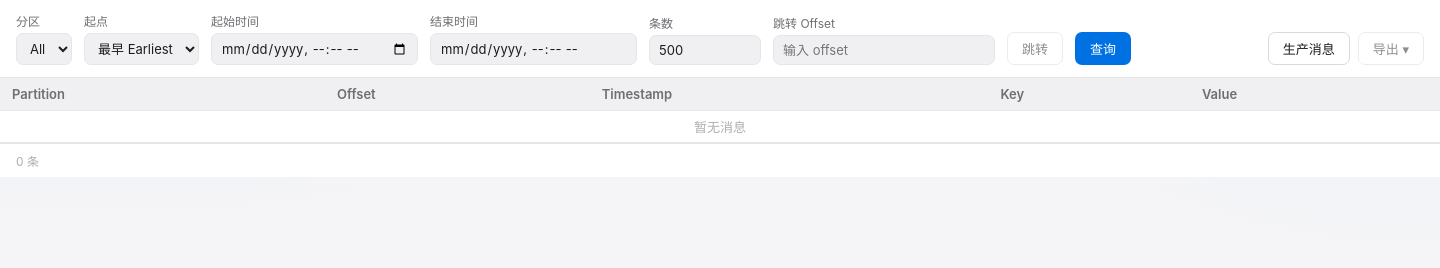
Test: MessageBrowser › loads the next page via load more
Select "0" in the dropdown with test id "filter-partition" at x=44, y=49, box [16,33,72,65]
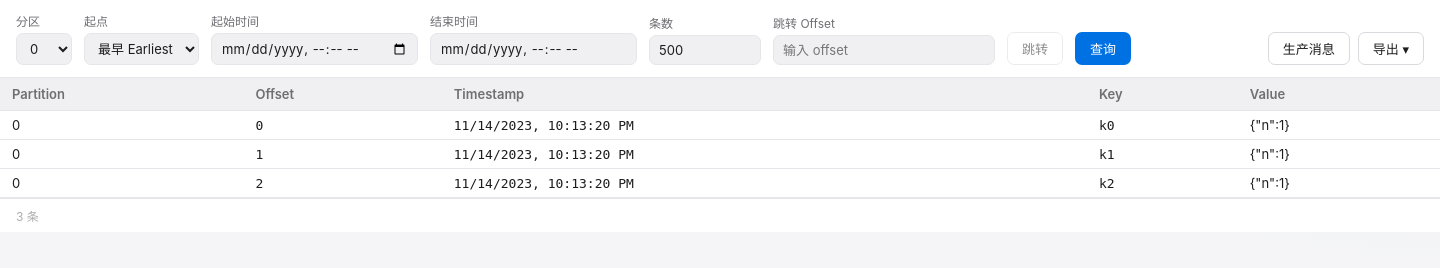
Replace the text in the number field with test id "filter-limit" with "3" at x=705, y=50, box [649,35,761,65]
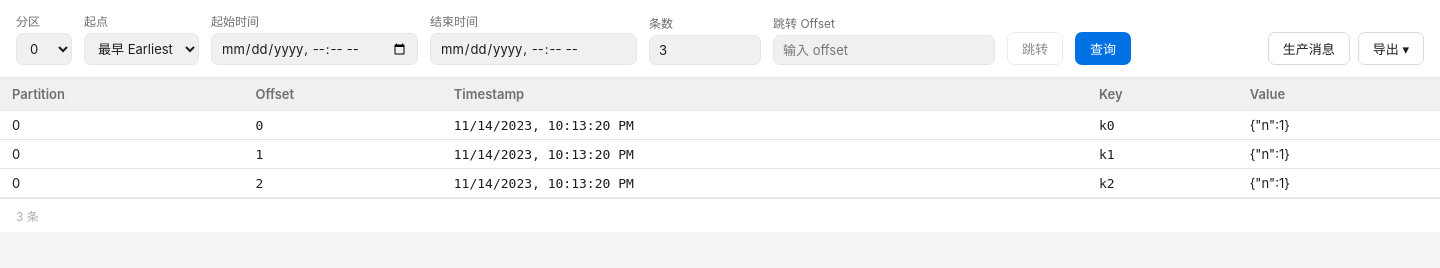
Click the button with test id "btn-query".
click(1103, 48)  # box [1075,32,1131,65]
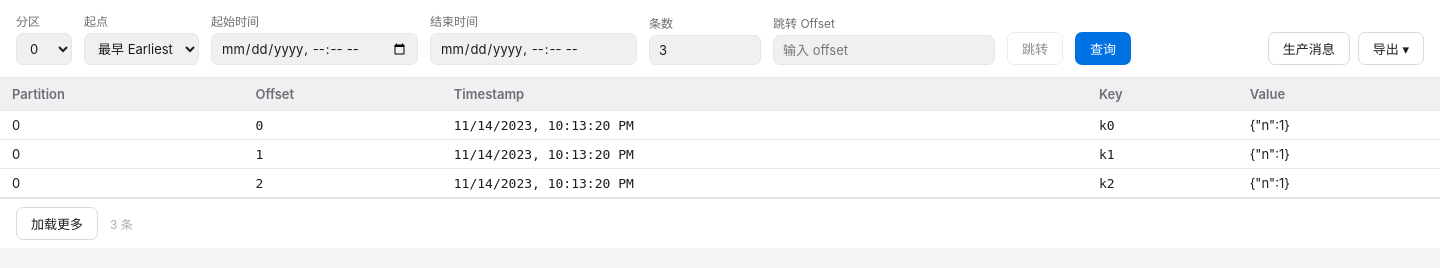
Now the button with test id "btn-load-more" is shown
Click the button with test id "btn-load-more".
click(57, 224)  # box [16,207,98,240]
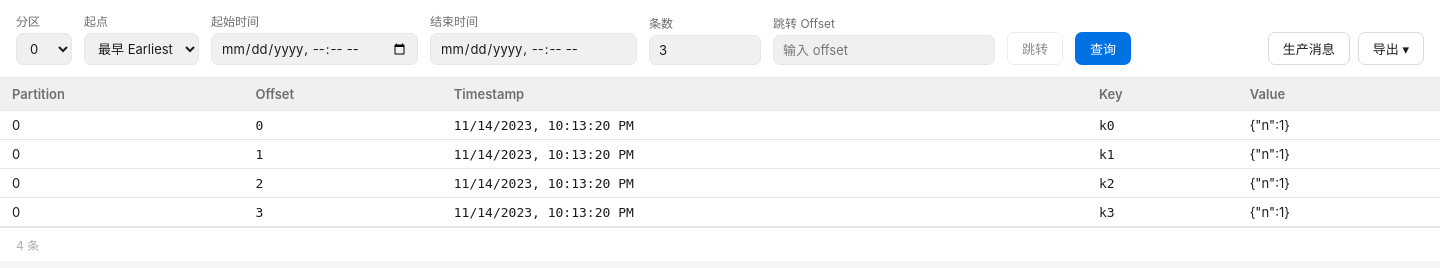
Now the number of rows with test id "message-row" is 4, box [0,110,1439,140]; [0,140,1439,168]; [0,168,1439,198]; [0,198,1439,226]
